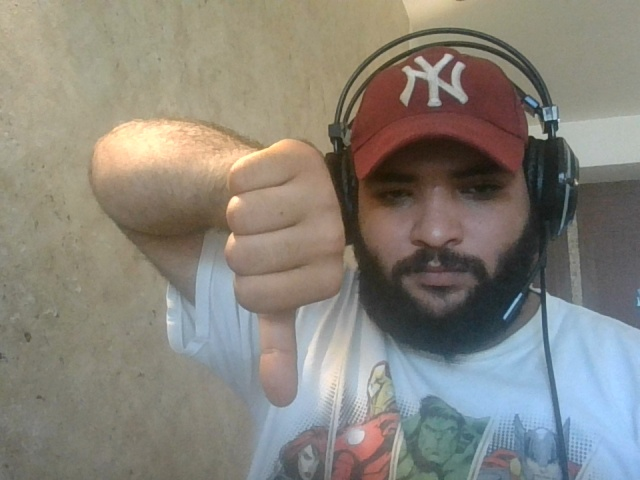no: (221, 135, 349, 412)
